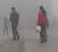person: (36, 5, 51, 44), (8, 6, 22, 41), (2, 16, 11, 35)
